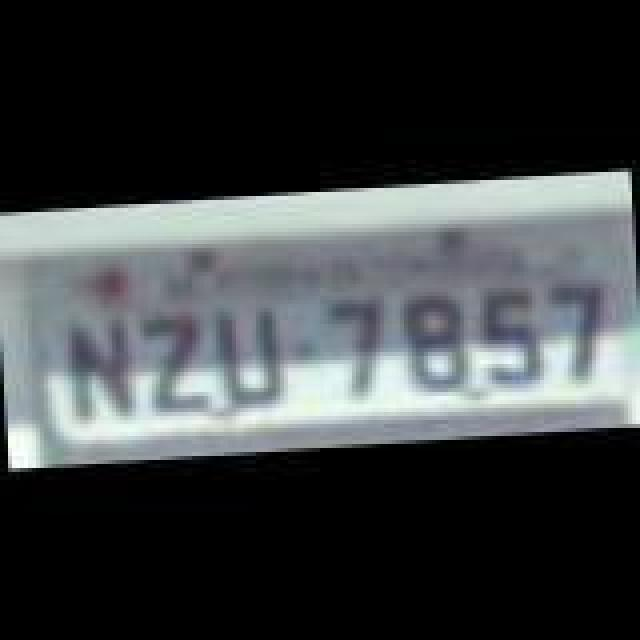5: (474, 274, 550, 390)
7: (544, 274, 624, 382), (324, 290, 396, 398)
8: (400, 286, 480, 402)
N: (62, 312, 138, 424)
U: (212, 300, 284, 404)
Z: (142, 310, 210, 418)
